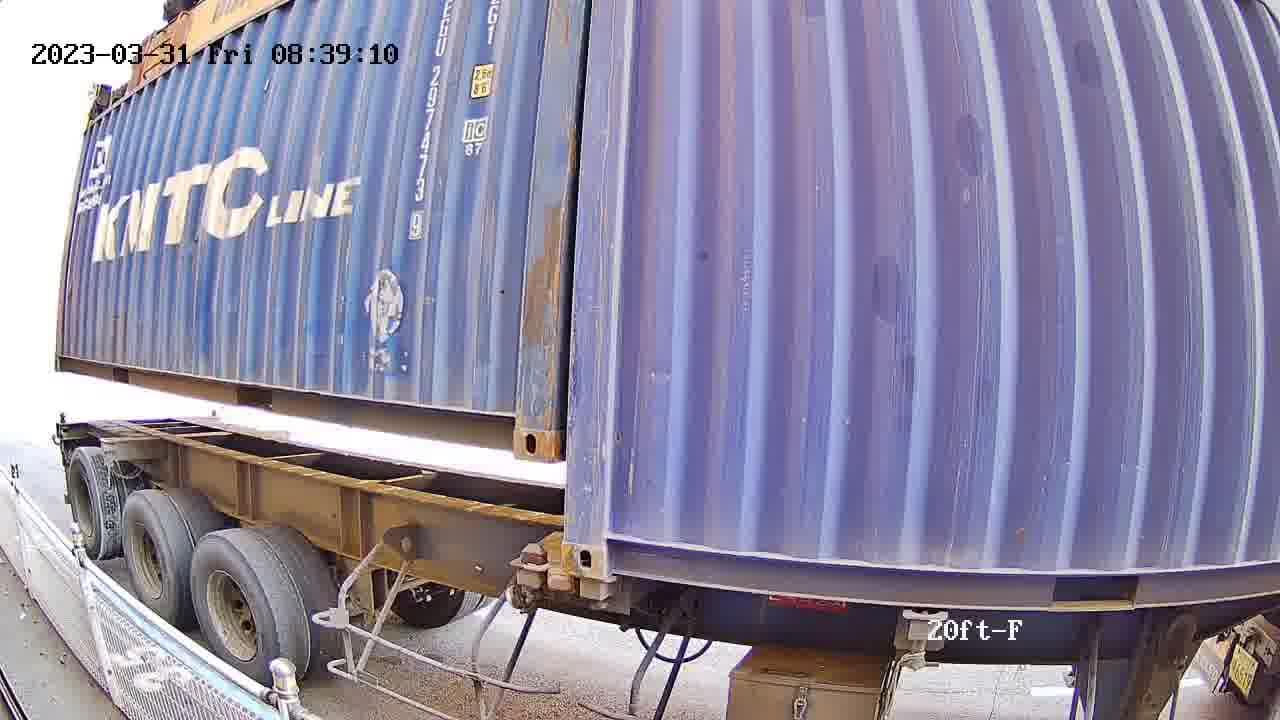Cone: (506, 540, 552, 616), (576, 580, 617, 614)
Hole_L: (562, 509, 643, 581)
Hole_R: (478, 387, 553, 463)
Tire: (189, 538, 283, 684), (123, 496, 180, 623), (68, 451, 104, 558)
